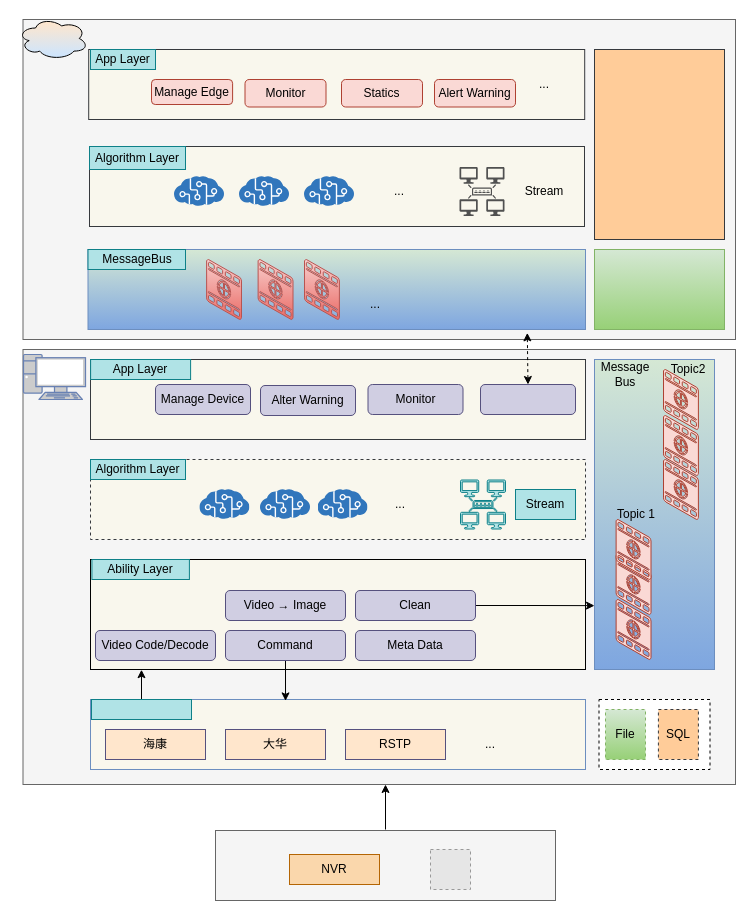
Some shapes in this 753 by 918 pixel diagram are drawn without their labels. Grey dashed boxes stand in for pictures. Here are the shapes that lost their labels. From the top down, the centre of each, then its label:
point 52,38: Cloud
point 659,144: SQL Data
point 659,289: File Data
point 54,376: Edge
point 528,399: Hub
point 141,709: Device Layer
